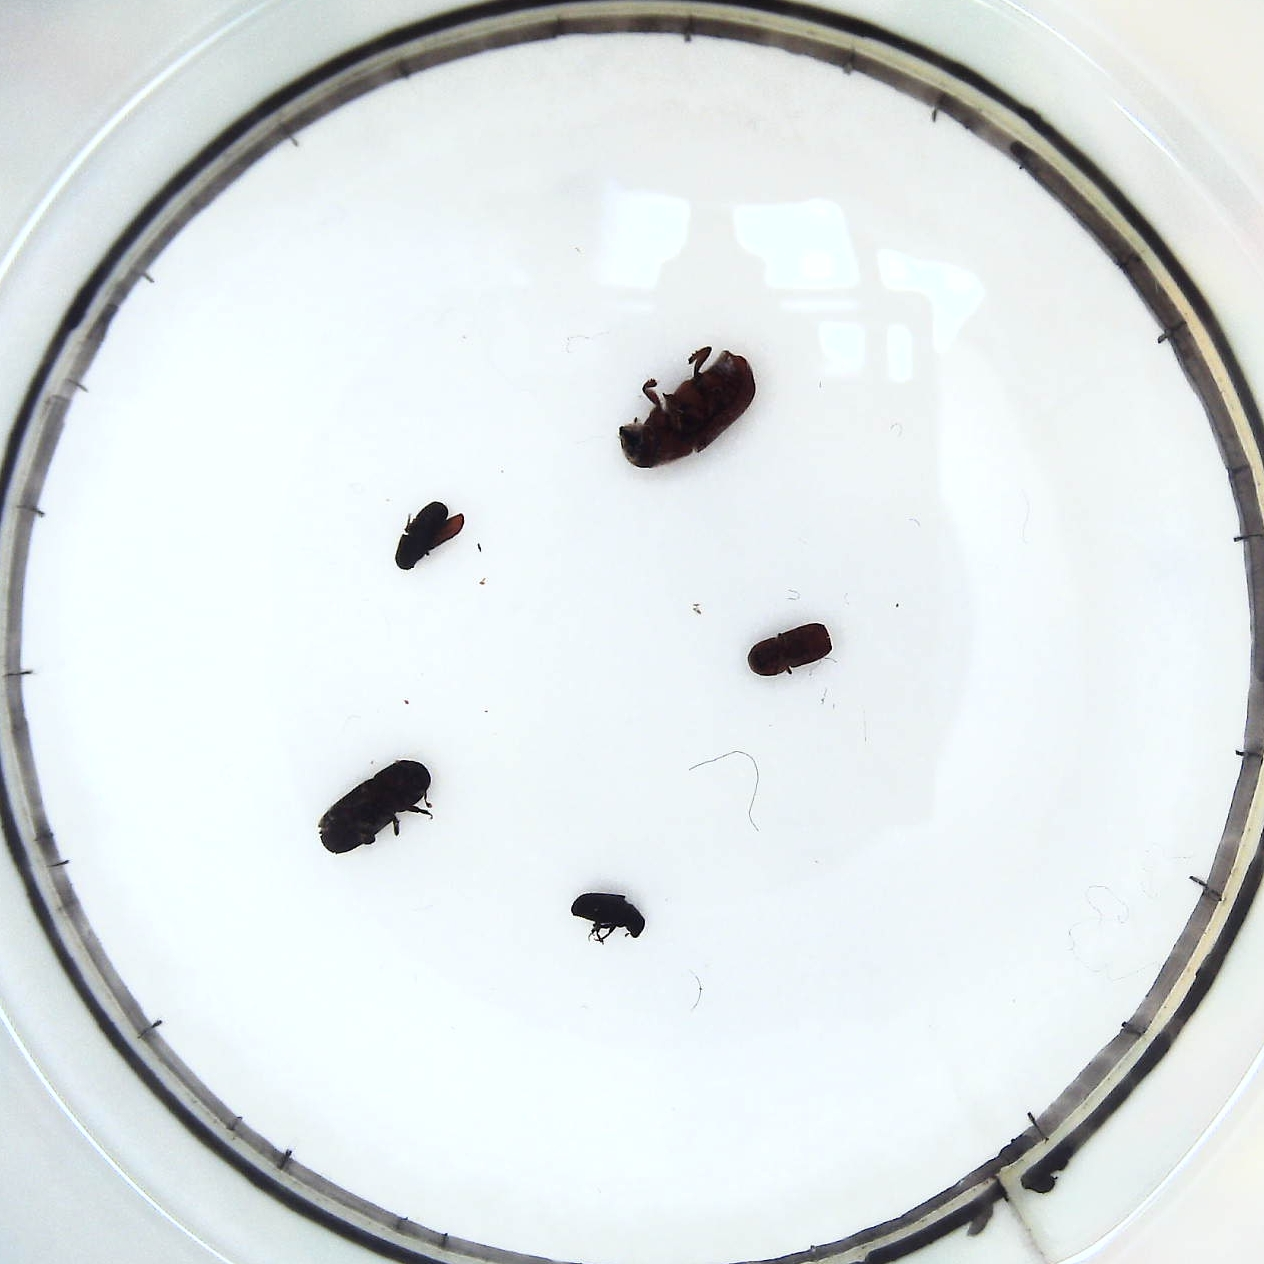Boerner: (319, 758, 438, 853)
Leconte: (617, 343, 760, 470)
armandi: (391, 488, 464, 574)
coleoptera: (568, 887, 651, 948)
linnaeus: (744, 613, 837, 682)
